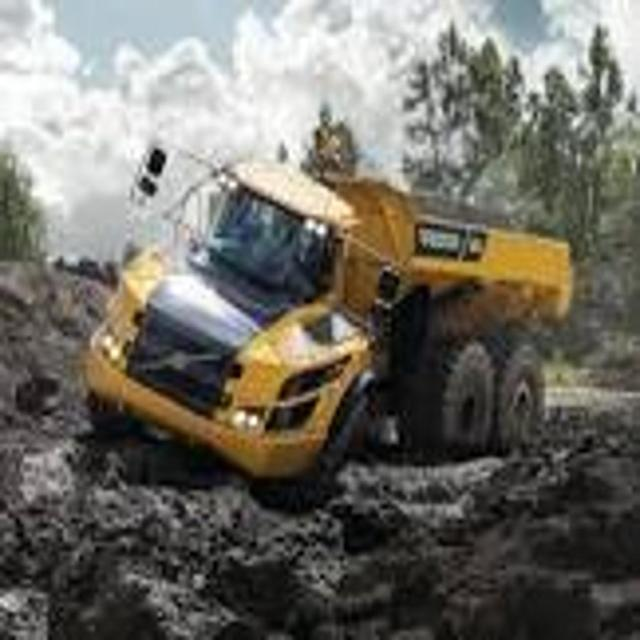dump_truck: (85, 138, 567, 487)
